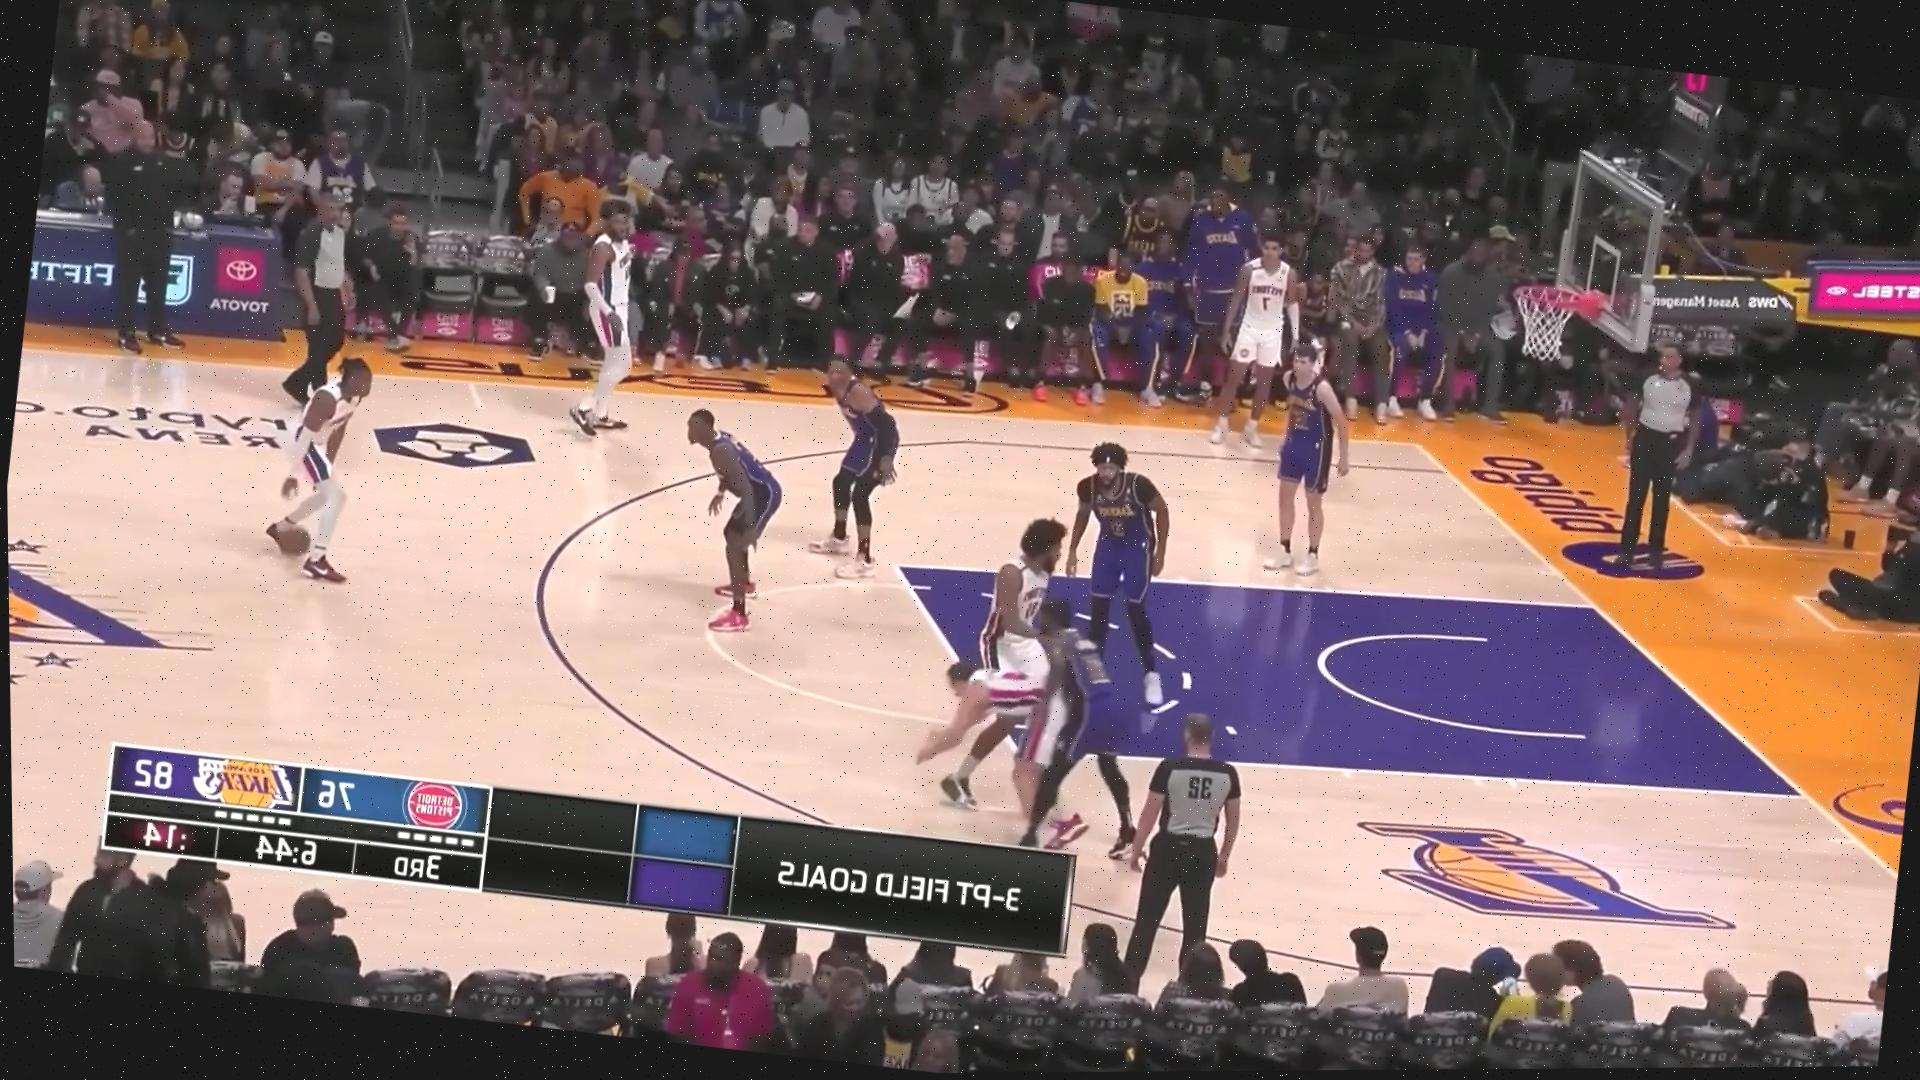foul: (894, 558, 1174, 852)
